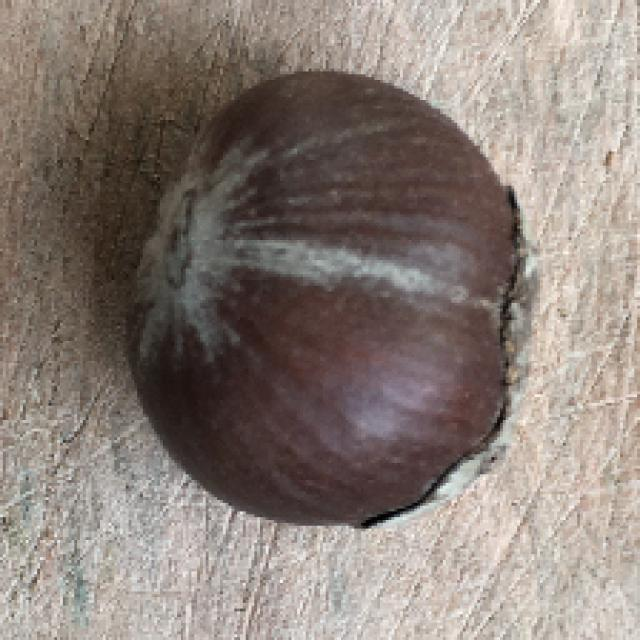damagedHazelnut: (126, 64, 544, 531)
